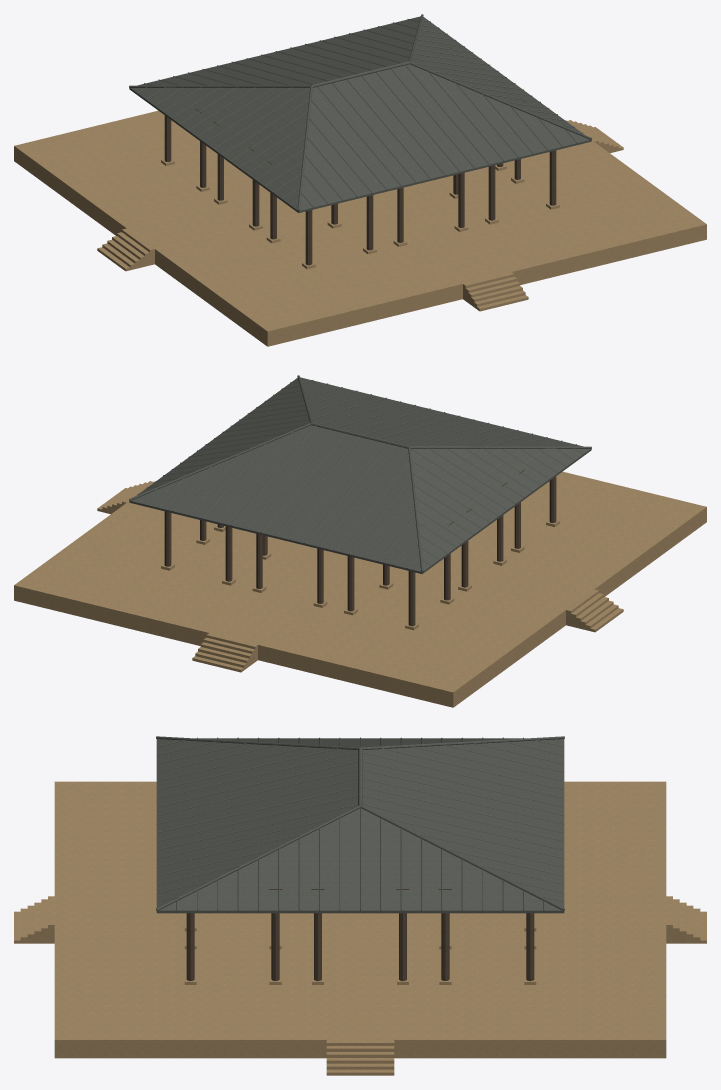
The model's file is biyong-A-LOD1.glb.
3 renders of one model, top to bottom at view 1: azimuth 30°, elevation 25°; view 2: azimuth 150°, elevation 25°; view 3: azimuth 270°, elevation 25°, orthographic. The views are drawn at different scales.
Parts seen in each view (by area): view 1: biyong-A-static_earth, biyong-A-static_tile, biyong-A-static_timber; view 2: biyong-A-static_earth, biyong-A-static_tile, biyong-A-static_timber; view 3: biyong-A-static_earth, biyong-A-static_tile, biyong-A-static_timber.
Part boxes in pixels (box(x1,y1,x2,y2)): biyong-A-static_earth: box(14, 110, 706, 346); biyong-A-static_tile: box(129, 14, 591, 212); biyong-A-static_timber: box(164, 47, 556, 265); biyong-A-static_earth: box(14, 471, 706, 707); biyong-A-static_tile: box(129, 375, 591, 573); biyong-A-static_timber: box(164, 408, 556, 626); biyong-A-static_earth: box(14, 781, 706, 1075); biyong-A-static_tile: box(156, 736, 564, 913); biyong-A-static_timber: box(186, 740, 534, 981).
Size of the model in its own units: 40.8 by 9.96 by 40.8.
Materials: 3 (3 with a texture image).
